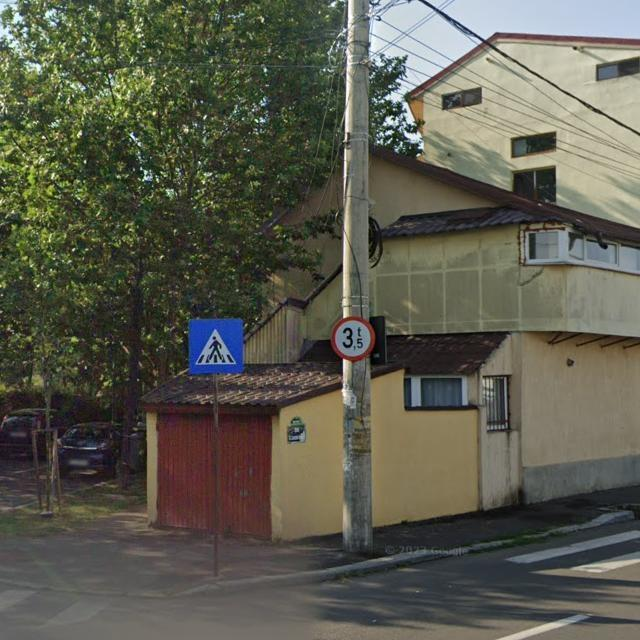info_crosswalk: (189, 319, 244, 374)
